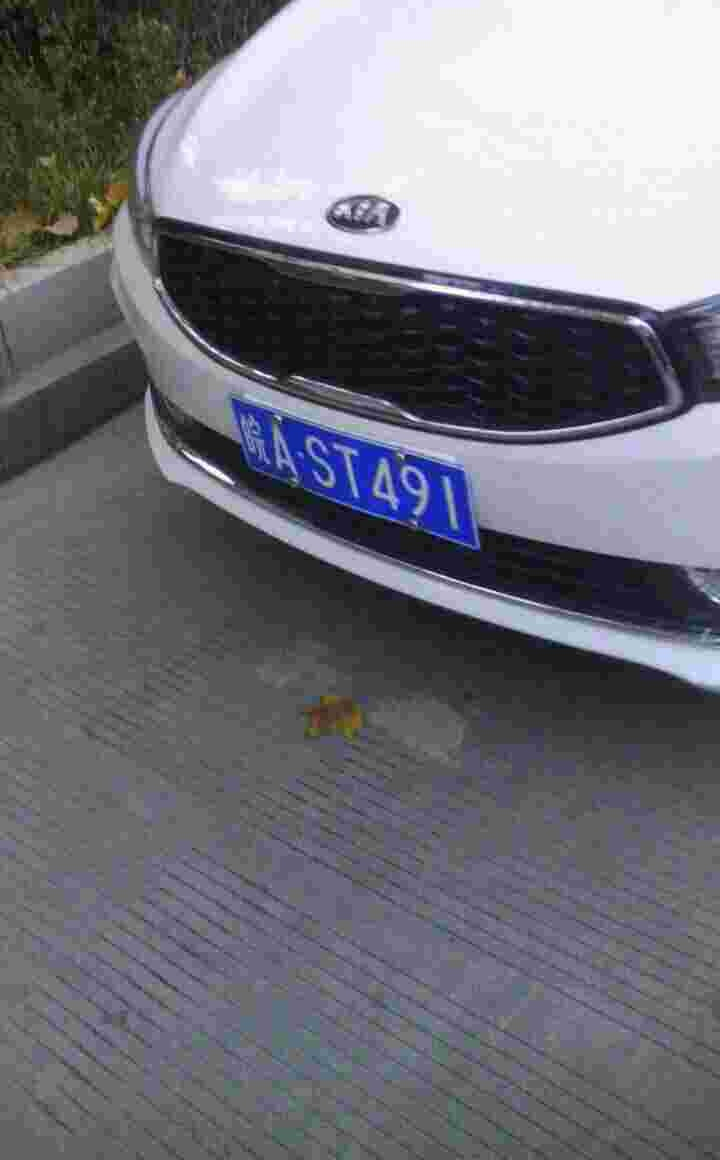license_plate: (231, 386, 483, 555)
